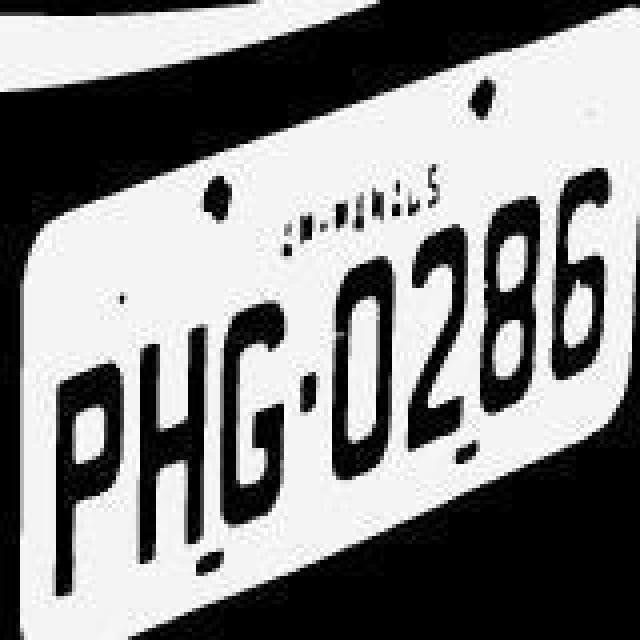2: (404, 224, 476, 456)
6: (548, 166, 612, 378)
8: (470, 198, 546, 418)
G: (218, 300, 294, 524)
H: (134, 326, 210, 570)
O: (328, 256, 400, 480)
P: (50, 360, 126, 600)
